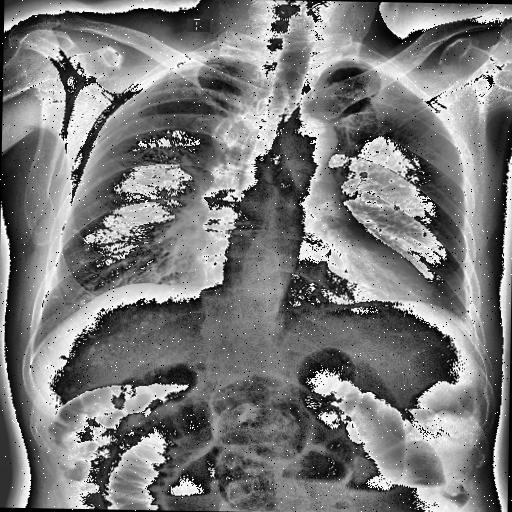0- Aortic enlargement: (284, 117, 338, 192), (266, 112, 337, 162)
10- Pleural effusion: (448, 306, 474, 337)
11- Pleural thickening: (448, 306, 474, 337), (332, 56, 372, 66)
2- Calcification: (356, 174, 400, 210), (64, 226, 92, 253), (50, 293, 84, 312), (412, 214, 438, 238), (95, 174, 114, 198)
3- Cardiomegaly: (218, 254, 434, 310)
8- Nodule-Mass: (46, 148, 162, 312), (349, 154, 467, 268), (48, 164, 116, 308), (382, 174, 462, 243)
